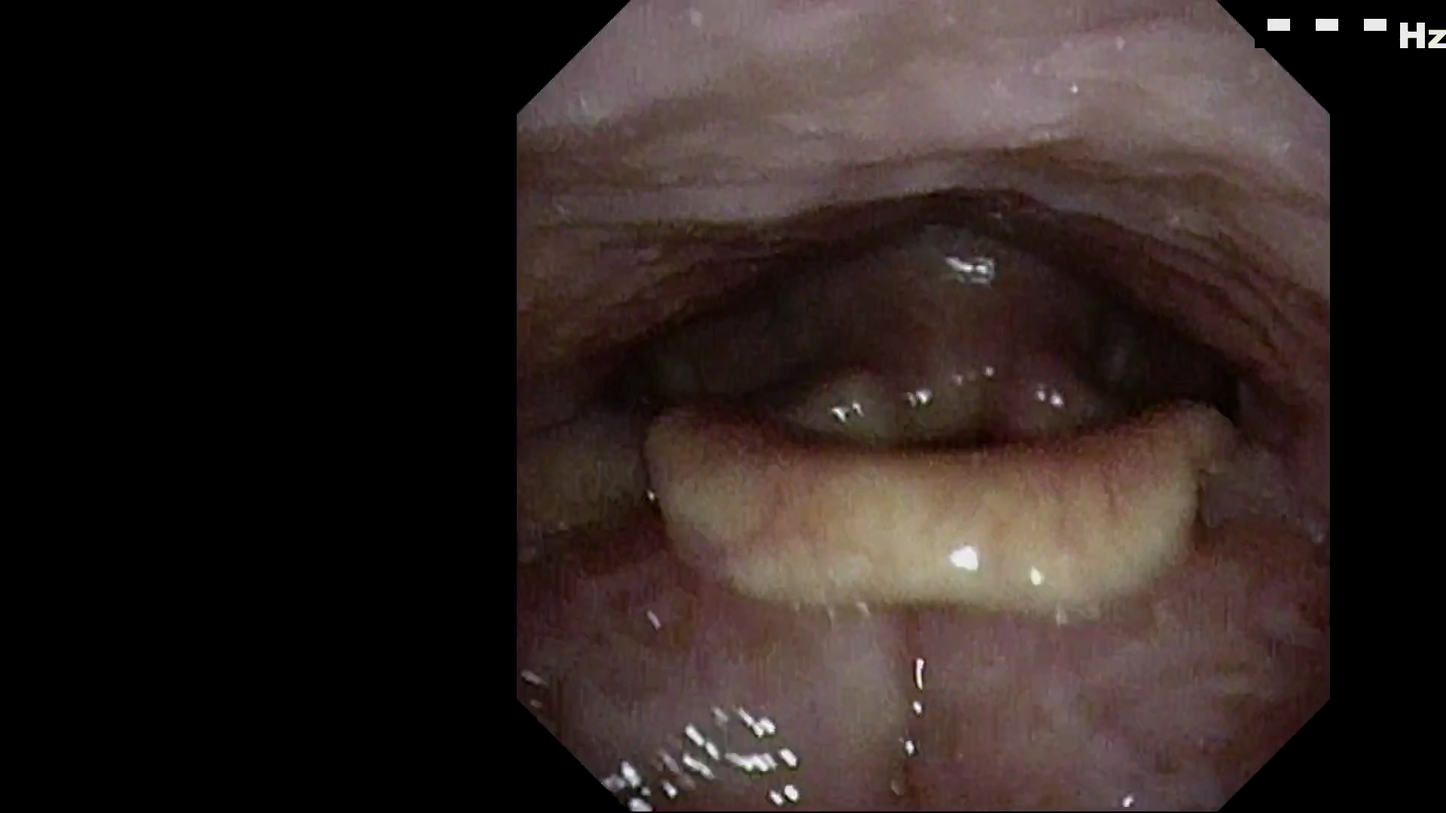epiglottis: (642, 392, 1195, 616)
